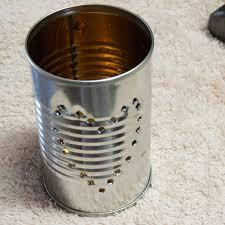Tin: (17, 5, 169, 218)
